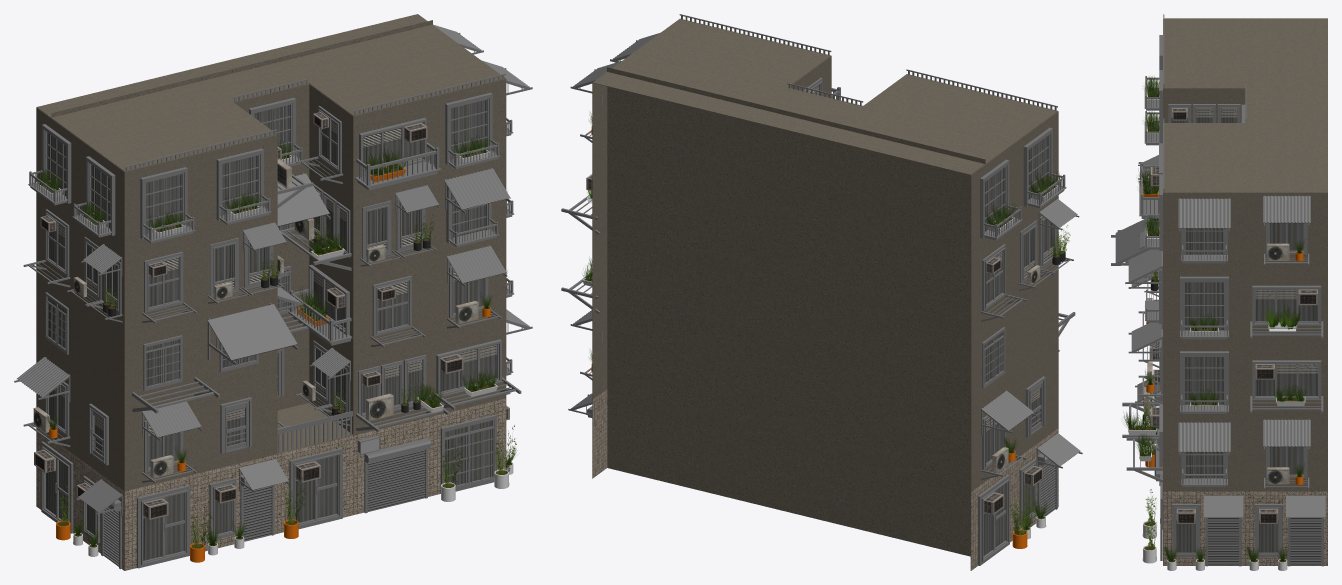
The model's file is bldg_06_brown_stucco.glb.
3 renders of one model, left to right at view 1: azimuth 30°, elevation 25°; view 2: azimuth 150°, elevation 25°; view 3: azimuth 270°, elevation 25°, orthographic. The views are drawn at different scales.
Parts seen in each view (by area): view 1: bldg_06_brown_stucco; view 2: bldg_06_brown_stucco; view 3: bldg_06_brown_stucco.
Part boxes in pixels (x1,y1,x2,y2): bldg_06_brown_stucco: (14, 14, 532, 570); bldg_06_brown_stucco: (561, 14, 1082, 570); bldg_06_brown_stucco: (1111, 14, 1327, 570).
Size of the model in its own units: 11.77 by 10.13 by 5.27.
Materials: 5 (5 with a texture image).
